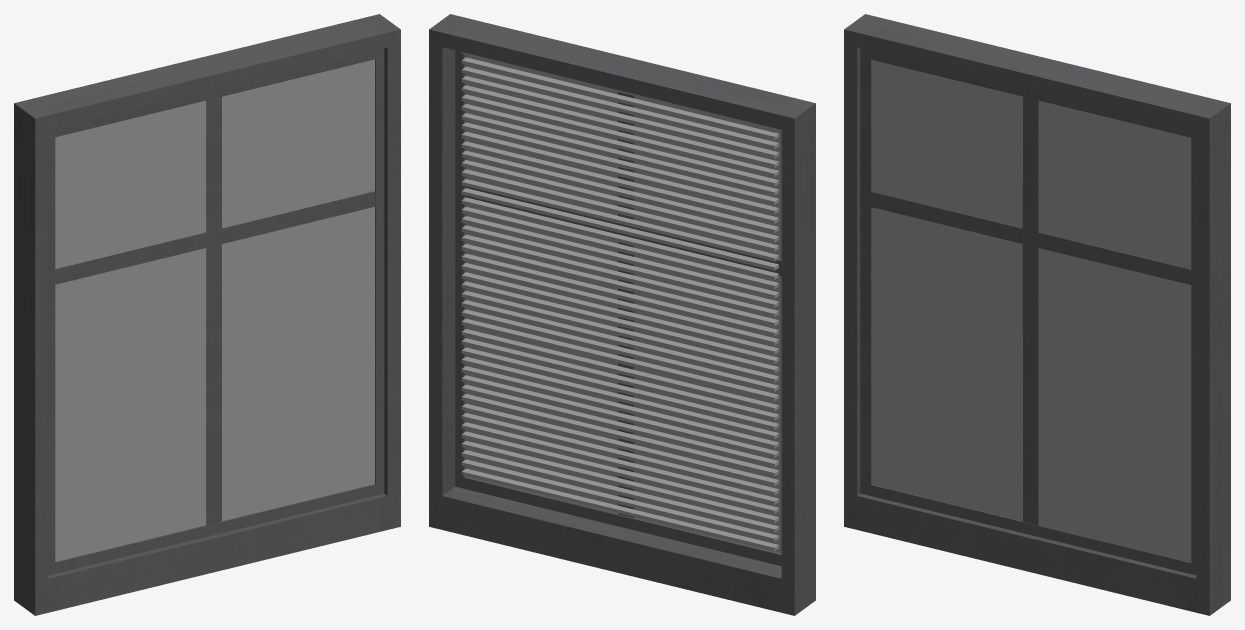
File: Window.fbx
3 views of the same model, side by side, from view 1: azimuth 30°, elevation 25°; view 2: azimuth 150°, elevation 25°; view 3: azimuth 330°, elevation 25° (orthographic).
Parts seen in each view (by area): view 1: polySurface21, polySurface47, polySurface1; view 2: polySurface47, polySurface21, polySurface1, polySurface35, polySurface44, polySurface8, polySurface11, polySurface19, polySurface20, polySurface36, polySurface3, polySurface4 (+37 smaller); view 3: polySurface21, polySurface47, polySurface1.
Boxes of the visible parts, <box> form: polySurface21: <box>55,59,374,561</box>; polySurface47: <box>14,14,400,615</box>; polySurface1: <box>55,96,375,525</box>; polySurface47: <box>429,14,815,615</box>; polySurface21: <box>466,55,781,552</box>; polySurface1: <box>465,92,781,517</box>; polySurface35: <box>461,94,778,177</box>; polySurface44: <box>461,197,778,279</box>; polySurface8: <box>461,225,778,307</box>; polySurface11: <box>461,356,778,439</box>; polySurface19: <box>461,431,778,513</box>; polySurface20: <box>461,422,778,504</box>; polySurface36: <box>461,85,778,167</box>; polySurface3: <box>461,459,778,541</box>; polySurface4: <box>461,216,778,298</box>; polySurface21: <box>871,60,1191,562</box>; polySurface47: <box>844,14,1230,615</box>; polySurface1: <box>871,96,1191,525</box>.
Bounding box in the file's own units: 2 × 2.6 × 0.2.
